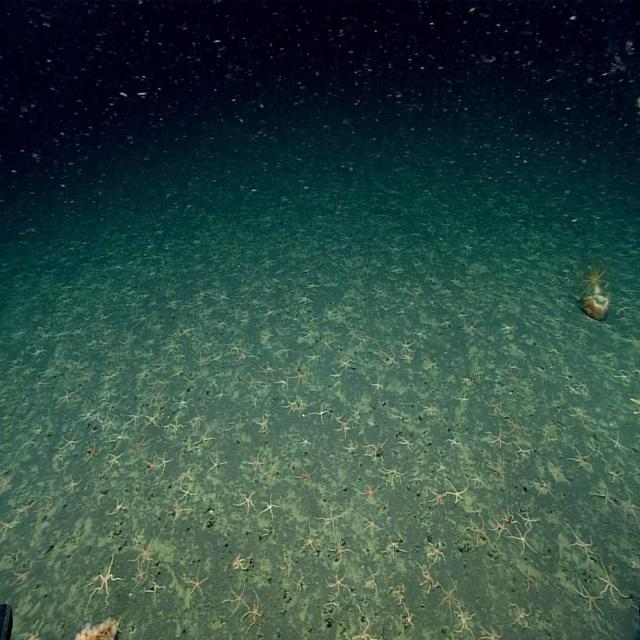brittle-stars: (89, 549, 120, 604), (598, 560, 623, 602), (574, 579, 602, 614), (439, 582, 460, 620), (568, 526, 592, 558), (11, 618, 45, 640), (243, 592, 263, 629), (184, 566, 207, 598), (319, 506, 343, 536), (510, 525, 534, 554), (466, 516, 488, 547), (591, 483, 615, 510), (510, 602, 533, 630), (226, 584, 248, 613), (135, 536, 156, 566), (301, 524, 320, 557), (417, 561, 436, 593), (455, 609, 475, 638), (328, 572, 352, 596), (383, 532, 405, 558), (570, 447, 593, 471), (607, 430, 629, 454), (297, 463, 318, 488), (236, 490, 257, 515), (358, 481, 379, 506), (448, 481, 470, 504), (532, 475, 553, 499), (426, 541, 446, 566), (548, 459, 568, 484), (620, 493, 640, 518), (262, 493, 281, 519), (520, 567, 539, 593), (365, 442, 387, 464), (331, 540, 352, 563), (146, 574, 163, 600), (488, 427, 509, 448), (569, 405, 590, 426), (167, 502, 188, 523), (10, 564, 30, 586), (509, 416, 527, 440), (429, 486, 449, 507), (383, 464, 404, 484), (109, 426, 130, 446), (0, 516, 18, 539), (520, 508, 538, 531), (351, 622, 374, 640), (208, 451, 225, 475), (362, 513, 379, 537), (62, 432, 81, 453), (490, 515, 508, 537), (133, 562, 149, 586), (110, 494, 127, 516), (402, 604, 416, 630), (64, 476, 82, 496), (106, 451, 124, 471), (230, 416, 248, 436), (489, 458, 506, 479), (248, 452, 264, 474), (481, 625, 504, 640), (400, 433, 418, 452), (312, 404, 329, 424), (538, 422, 553, 444), (177, 485, 195, 503), (336, 416, 352, 436), (266, 460, 282, 480), (38, 497, 54, 517), (0, 474, 14, 496), (397, 336, 414, 354), (420, 403, 438, 420), (166, 418, 183, 436), (176, 467, 193, 485), (291, 369, 307, 388), (59, 388, 75, 407), (190, 410, 205, 430), (244, 373, 260, 391), (514, 441, 530, 459), (234, 553, 249, 572), (258, 412, 272, 432), (87, 443, 101, 463), (342, 440, 358, 457), (488, 399, 504, 416), (143, 456, 157, 475), (371, 374, 384, 394), (382, 352, 398, 368), (144, 413, 159, 430), (260, 329, 274, 347), (134, 438, 148, 456), (448, 433, 462, 451), (159, 453, 172, 472), (32, 377, 48, 392), (179, 322, 194, 338), (278, 342, 292, 359), (129, 410, 143, 427), (276, 375, 290, 392), (104, 413, 117, 431), (306, 349, 321, 364), (456, 392, 470, 408), (340, 356, 354, 372), (196, 352, 210, 368), (424, 356, 438, 372), (470, 470, 482, 488), (342, 301, 356, 316), (399, 351, 414, 365), (549, 344, 563, 359), (266, 306, 280, 320), (167, 294, 180, 309), (322, 336, 334, 352), (300, 436, 313, 450), (229, 342, 242, 356), (263, 361, 276, 375), (299, 291, 312, 305), (304, 328, 317, 342), (186, 441, 198, 456), (238, 348, 250, 363), (500, 322, 514, 334), (308, 280, 320, 292)
